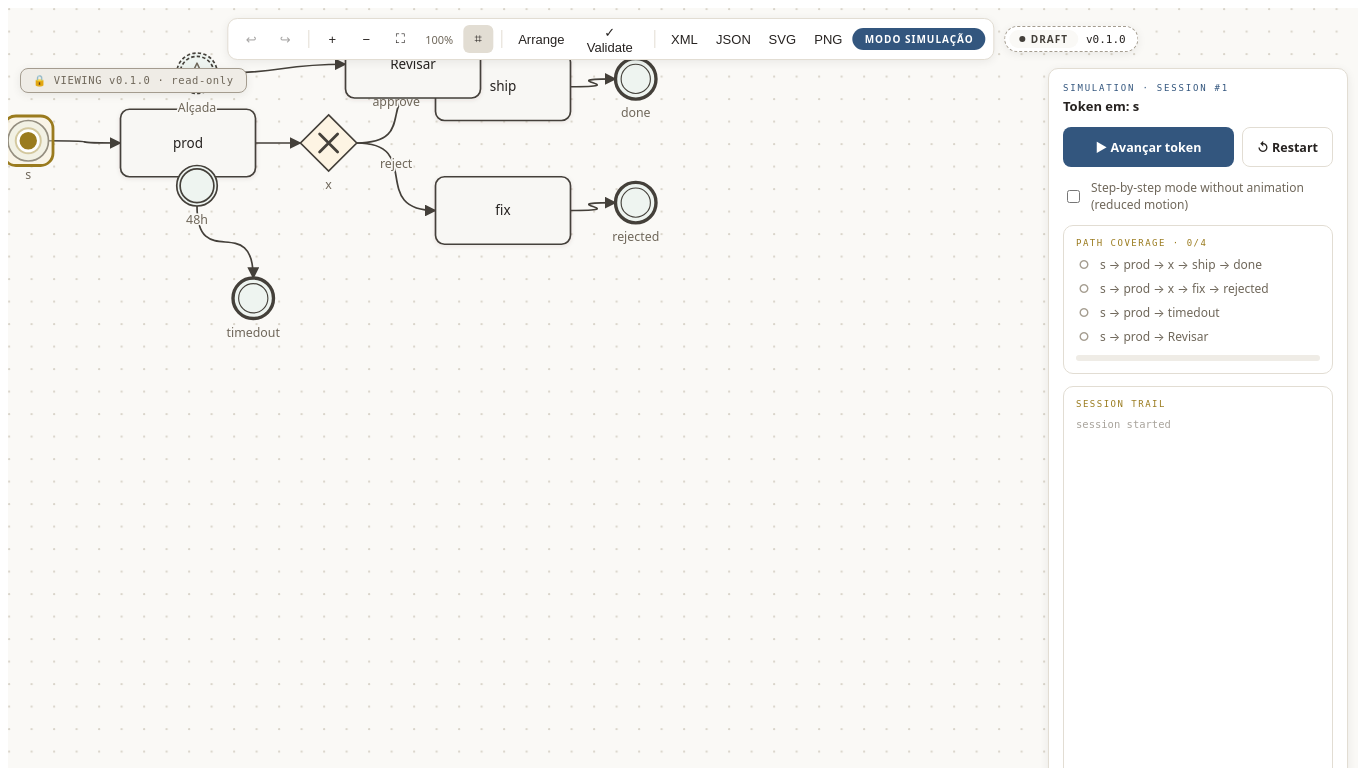
Scenario: escalação na simulação (Handoff 18 §5e) › o card «Escalar» mostra o DESTINO PREVISTO por opção (glifo+texto, reforço 7)
Click the button "▶ Avançar token" at (1148, 147), box [1063,127,1234,167]
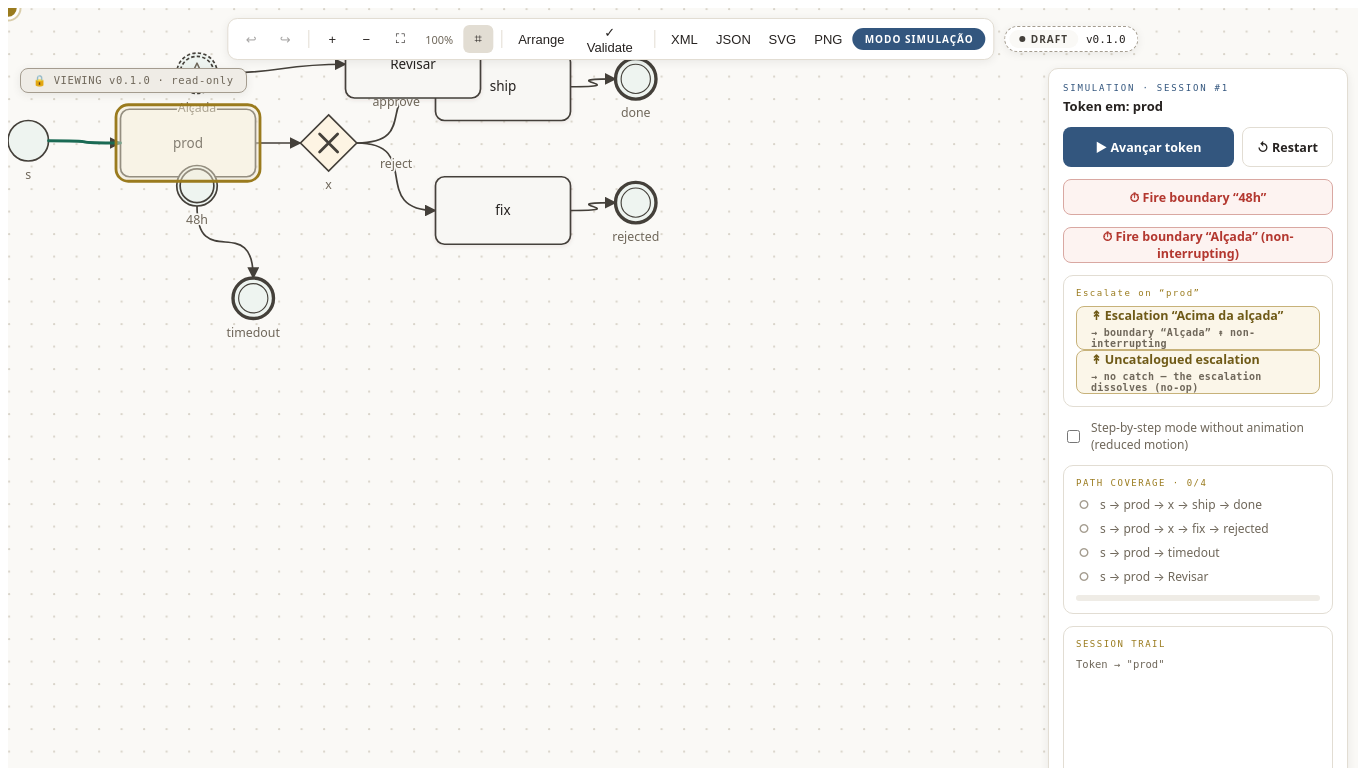
Expected: the element that starts with "Escalate on “prod”" is shown, [1063,275,1333,407]
Expected: the text "→ boundary “Alçada” ↟ non-interrupting" is shown, [1091,327,1255,349]
